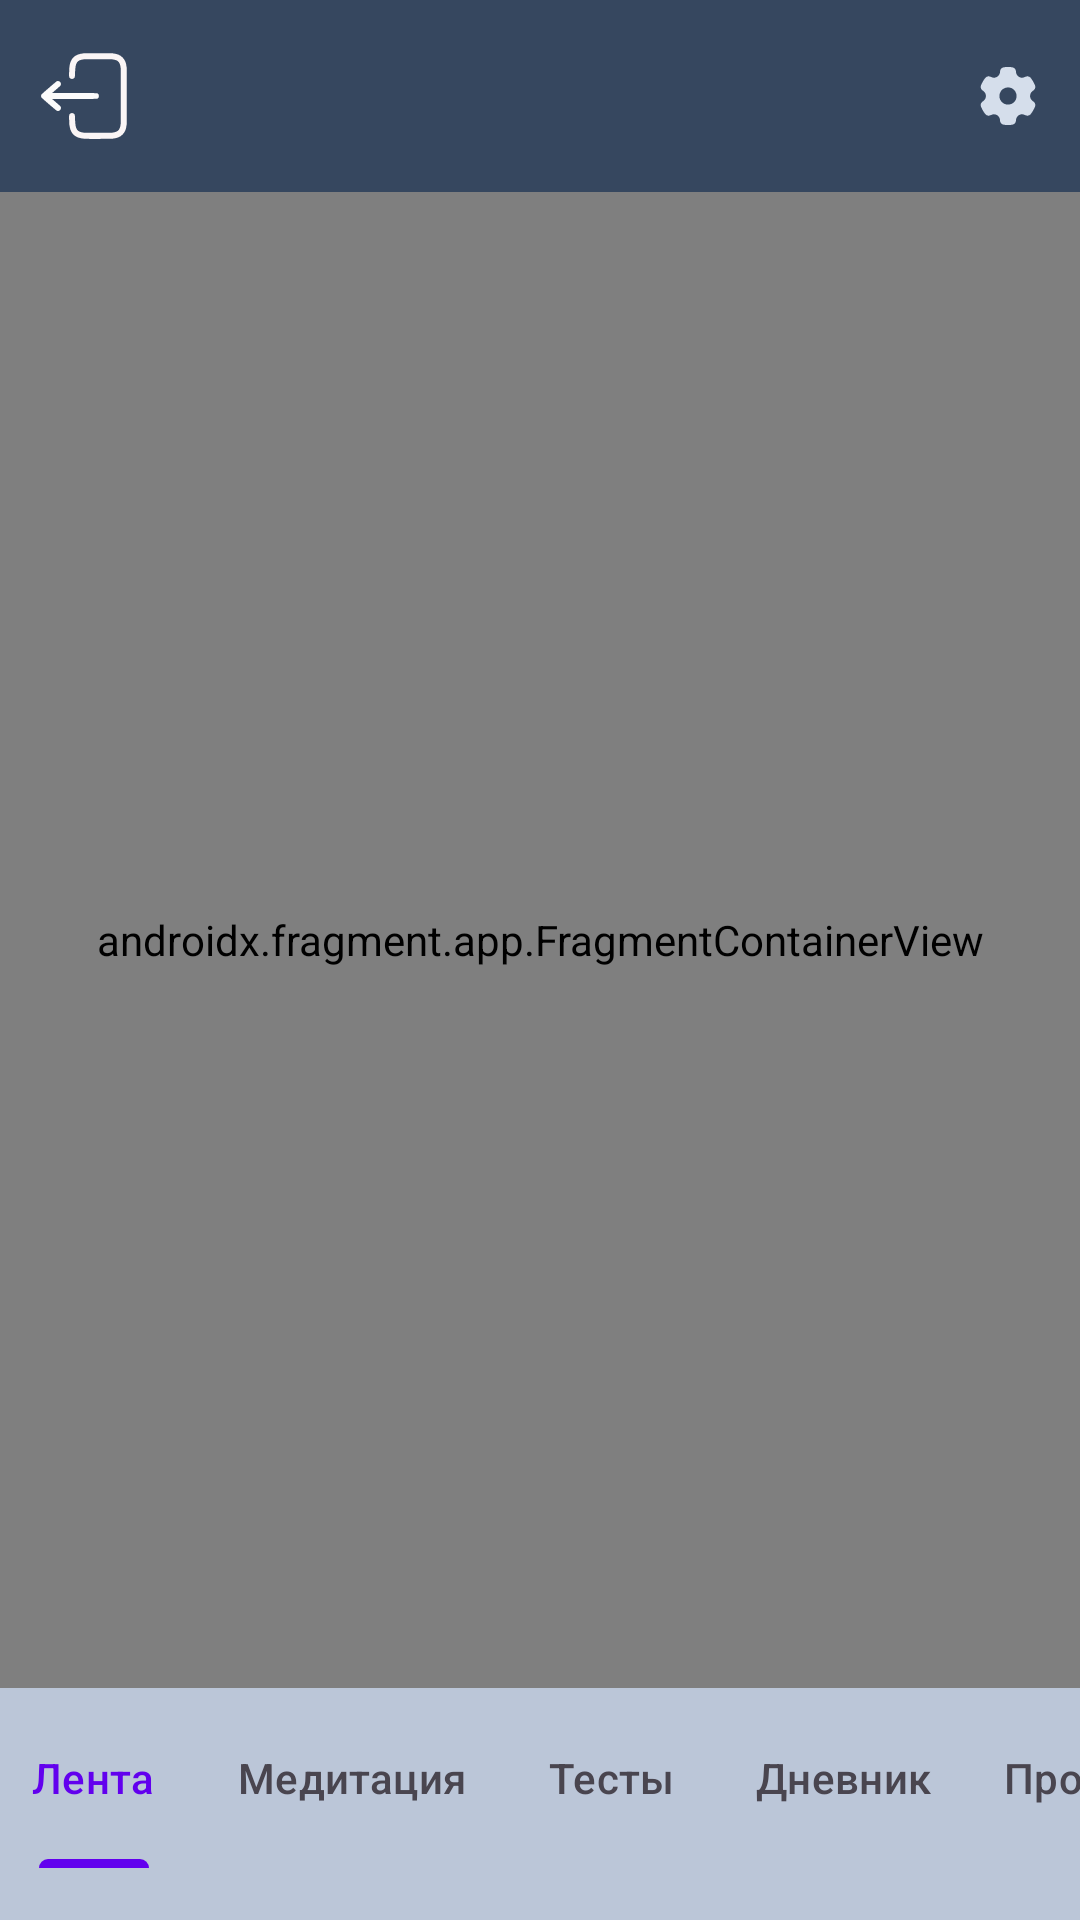

Screen size 1080px x 1920px. Icon name, then its center in pixels as (x,y):
setting: (1008,96)
